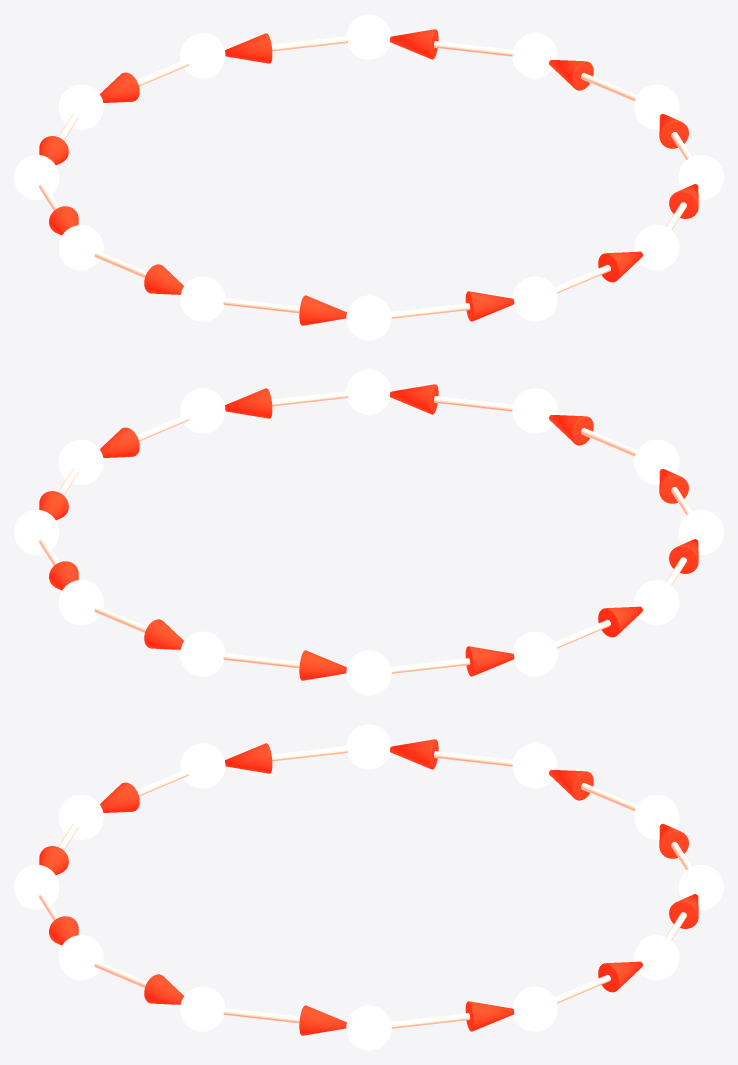
3 views of the same model, one above another, from view 1: azimuth 30°, elevation 25°; view 2: azimuth 150°, elevation 25°; view 3: azimuth 270°, elevation 25° (orthographic).
Visible parts, largest first — view 1: Sphere.0008, Sphere.0007, Sphere.0009, Sphere.0002, Sphere.0001, Sphere.0003, Sphere.0006, Sphere.0010, Sphere.0004, Sphere.0005, Sphere.0000, Sphere.0011 (+16 smaller); view 2: Sphere.0004, Sphere.0005, Sphere.0003, Sphere.0010, Sphere.0011, Sphere.0006, Sphere.0002, Sphere.0009, Sphere.0000, Sphere.0001, Sphere.0008, Sphere.0007 (+16 smaller); view 3: Sphere.0000, Sphere.0001, Sphere.0011, Sphere.0006, Sphere.0007, Sphere.0002, Sphere.0010, Sphere.0005, Sphere.0008, Sphere.0009, Sphere.0004, Sphere.0003 (+16 smaller).
Part boxes in pixels (x1=…): Sphere.0008: x1=346, y1=295, x2=391, y2=340; Sphere.0007: x1=180, y1=276, x2=225, y2=321; Sphere.0009: x1=512, y1=276, x2=557, y2=321; Sphere.0002: x1=346, y1=14, x2=391, y2=59; Sphere.0001: x1=512, y1=33, x2=557, y2=78; Sphere.0003: x1=180, y1=33, x2=225, y2=78; Sphere.0006: x1=58, y1=225, x2=103, y2=270; Sphere.0010: x1=634, y1=225, x2=679, y2=270; Sphere.0004: x1=58, y1=84, x2=103, y2=129; Sphere.0005: x1=14, y1=154, x2=59, y2=200; Sphere.0000: x1=634, y1=84, x2=679, y2=129; Sphere.0011: x1=678, y1=154, x2=723, y2=200; Sphere.0004: x1=346, y1=650, x2=391, y2=695; Sphere.0005: x1=512, y1=631, x2=557, y2=676; Sphere.0003: x1=180, y1=631, x2=225, y2=676; Sphere.0010: x1=346, y1=369, x2=391, y2=414; Sphere.0011: x1=180, y1=388, x2=225, y2=433; Sphere.0006: x1=634, y1=580, x2=679, y2=625; Sphere.0002: x1=58, y1=580, x2=103, y2=625; Sphere.0009: x1=512, y1=388, x2=557, y2=433; Sphere.0000: x1=58, y1=439, x2=103, y2=484; Sphere.0001: x1=14, y1=510, x2=59, y2=554; Sphere.0008: x1=634, y1=439, x2=679, y2=484; Sphere.0007: x1=678, y1=510, x2=723, y2=554; Sphere.0000: x1=346, y1=1005, x2=391, y2=1050; Sphere.0001: x1=512, y1=986, x2=557, y2=1031; Sphere.0011: x1=180, y1=986, x2=225, y2=1031; Sphere.0006: x1=346, y1=724, x2=391, y2=769; Sphere.0007: x1=180, y1=743, x2=225, y2=788; Sphere.0002: x1=634, y1=935, x2=679, y2=980; Sphere.0010: x1=58, y1=935, x2=103, y2=980; Sphere.0005: x1=512, y1=743, x2=557, y2=788; Sphere.0008: x1=58, y1=794, x2=103, y2=839; Sphere.0009: x1=14, y1=865, x2=59, y2=909; Sphere.0004: x1=634, y1=794, x2=679, y2=839; Sphere.0003: x1=678, y1=865, x2=723, y2=909.
Size of the model in its own units: 2.03 by 0.1296 by 2.03.
